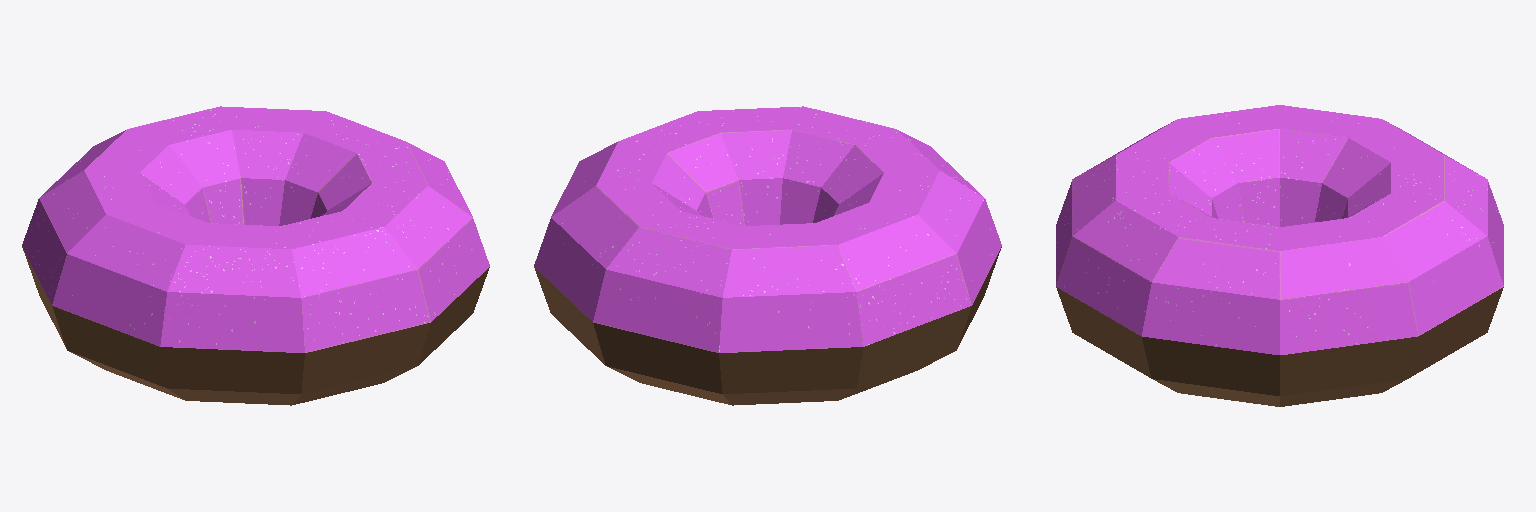
3 views of the same model, side by side, from view 1: azimuth 30°, elevation 25°; view 2: azimuth 150°, elevation 25°; view 3: azimuth 270°, elevation 25° (orthographic).
Visible parts, largest first — view 1: Torus; view 2: Torus; view 3: Torus.
Part boxes in pixels (left/top/right/bottom): Torus: left=22, top=106, right=489, bottom=405; Torus: left=534, top=106, right=1001, bottom=405; Torus: left=1056, top=105, right=1503, bottom=406.
Size of the model in its own units: 2.6 by 0.9511 by 2.47.
2 materials, 1 textured.